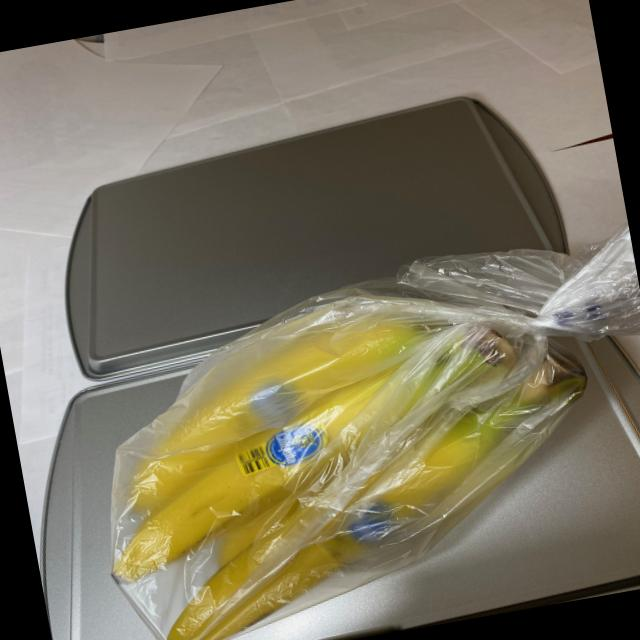banana: (68, 250, 626, 640)
